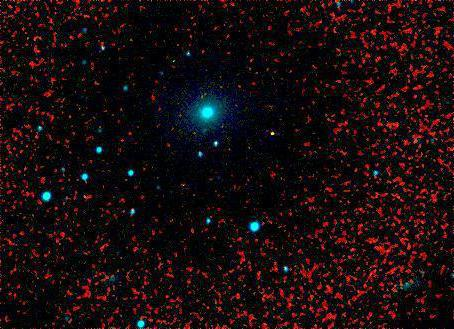star: (260, 114, 290, 144)
